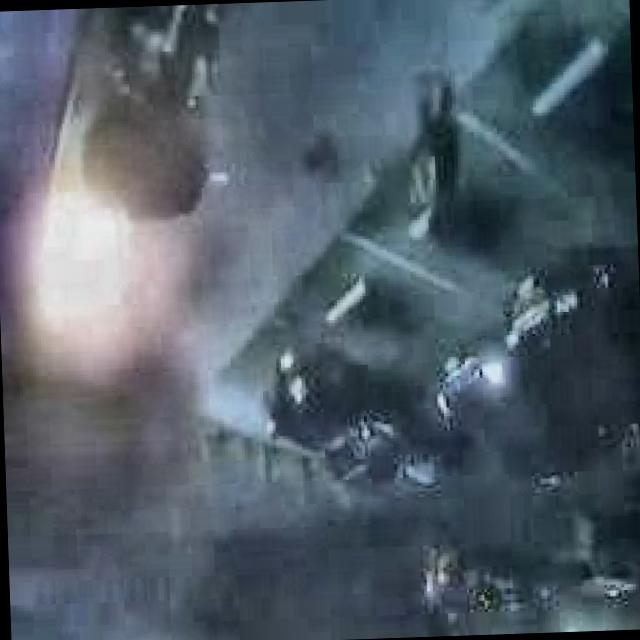fire: (11, 117, 178, 379)
